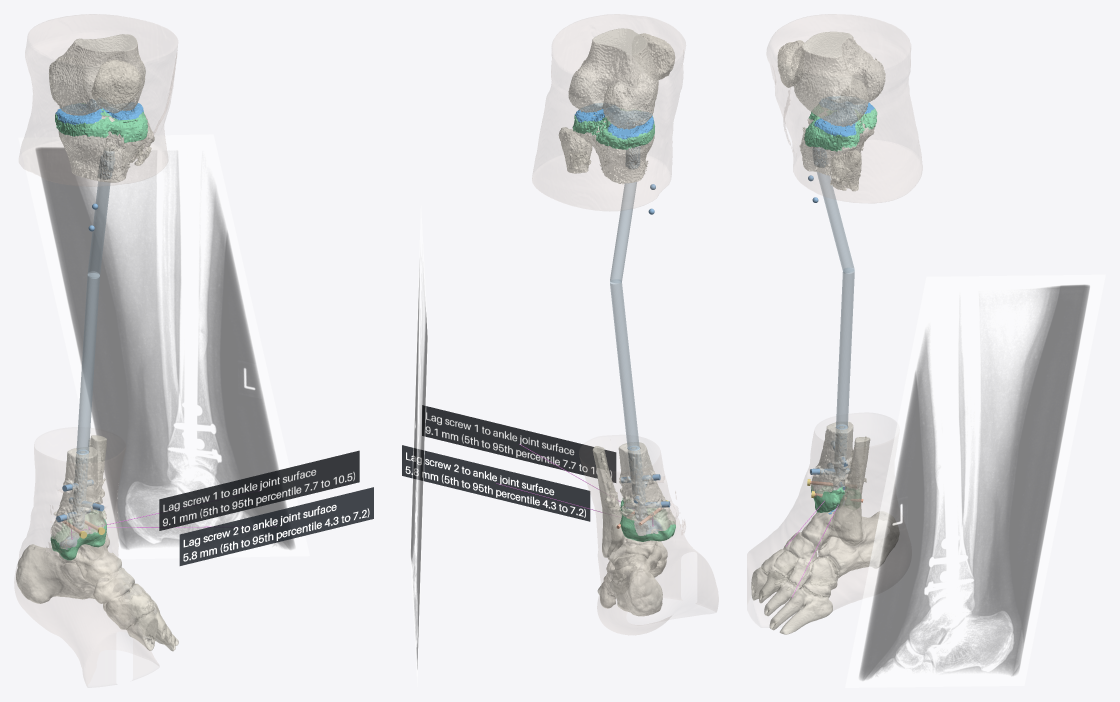
File: 2023-02-14_081733_lat.glb
3 renders of one model, left to right at view 1: azimuth 30°, elevation 25°; view 2: azimuth 150°, elevation 25°; view 3: azimuth 270°, elevation 25°, orthographic. The views are drawn at different scales.
Parts seen in each view (by area): view 1: radiograph, skin, tarsal, implant_8, tibia, implant_16, femur, nail_modelled, patella, capsule_band_knee, metatarsal, nail (+3 smaller); view 2: skin, femur, implant_17, implant_9, tibia, radiograph, tarsal, nail_modelled, fibula, articular_surface_knee, capsule_band_knee, nail (+2 smaller); view 3: radiograph, skin, tarsal, femur, tibia, fibula, nail_modelled, metatarsal, capsule_band_knee, articular_surface_knee, nail, patella (+1 smaller).
Boxes of the visible parts, left/top/right/bottom form: radiograph: left=18, top=134, right=309, bottom=559; skin: left=14, top=14, right=177, bottom=686; tarsal: left=16, top=528, right=154, bottom=629; implant_8: left=159, top=450, right=359, bottom=530; tibia: left=51, top=111, right=145, bottom=560; implant_16: left=179, top=487, right=373, bottom=565; femur: left=48, top=34, right=145, bottom=115; nail_modelled: left=76, top=181, right=110, bottom=454; patella: left=91, top=59, right=141, bottom=113; capsule_band_knee: left=55, top=103, right=147, bottom=143; metatarsal: left=126, top=600, right=178, bottom=651; nail: left=72, top=150, right=114, bottom=529; skin: left=532, top=14, right=718, bottom=634; femur: left=568, top=28, right=658, bottom=129; implant_17: left=402, top=445, right=590, bottom=521; implant_9: left=422, top=405, right=616, bottom=482; tibia: left=572, top=115, right=675, bottom=540; radiograph: left=410, top=206, right=428, bottom=686; tarsal: left=604, top=518, right=667, bottom=616; nail_modelled: left=610, top=182, right=639, bottom=450; fibula: left=558, top=127, right=624, bottom=557; articular_surface_knee: left=574, top=103, right=653, bottom=139; capsule_band_knee: left=572, top=109, right=654, bottom=149; nail: left=625, top=146, right=647, bottom=520; radiograph: left=845, top=274, right=1105, bottom=687; skin: left=747, top=14, right=922, bottom=610; tarsal: left=761, top=506, right=899, bottom=597; femur: left=793, top=31, right=885, bottom=127; tibia: left=799, top=118, right=875, bottom=512; fibula: left=830, top=149, right=870, bottom=543; nail_modelled: left=817, top=172, right=854, bottom=429; metatarsal: left=751, top=567, right=832, bottom=634; capsule_band_knee: left=804, top=104, right=877, bottom=151; articular_surface_knee: left=814, top=96, right=874, bottom=136; nail: left=813, top=147, right=847, bottom=489; patella: left=777, top=40, right=804, bottom=87.
Size of the model in its own units: 0.2871 by 0.5474 by 0.2995.
Materials: 15 (3 with a texture image).
